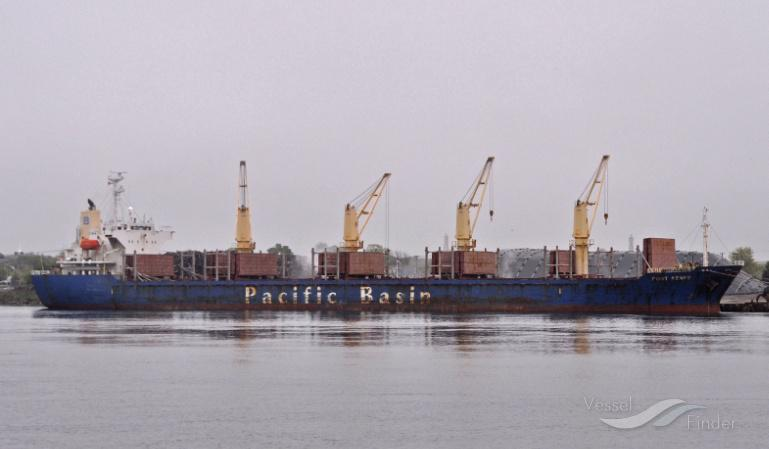OCR: (236, 283, 436, 315)
